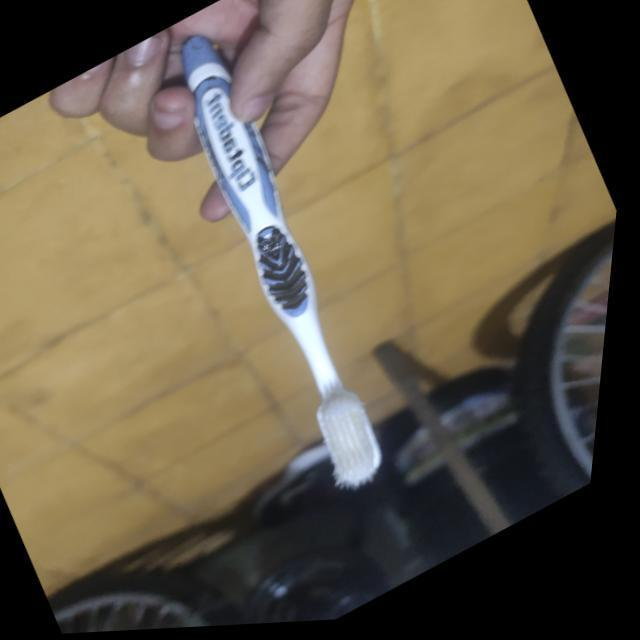toothbrush: (100, 0, 472, 528)
